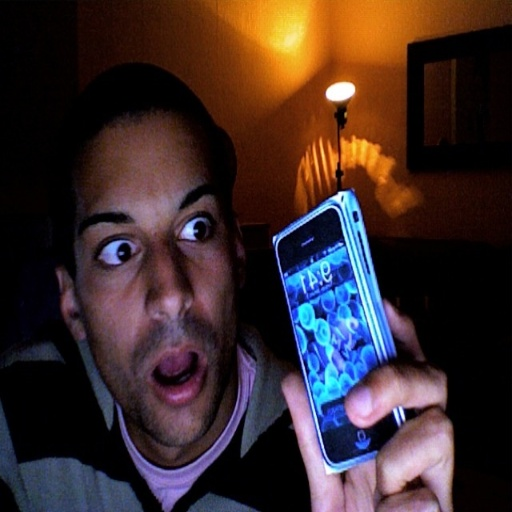hand: (313, 288, 469, 507)
